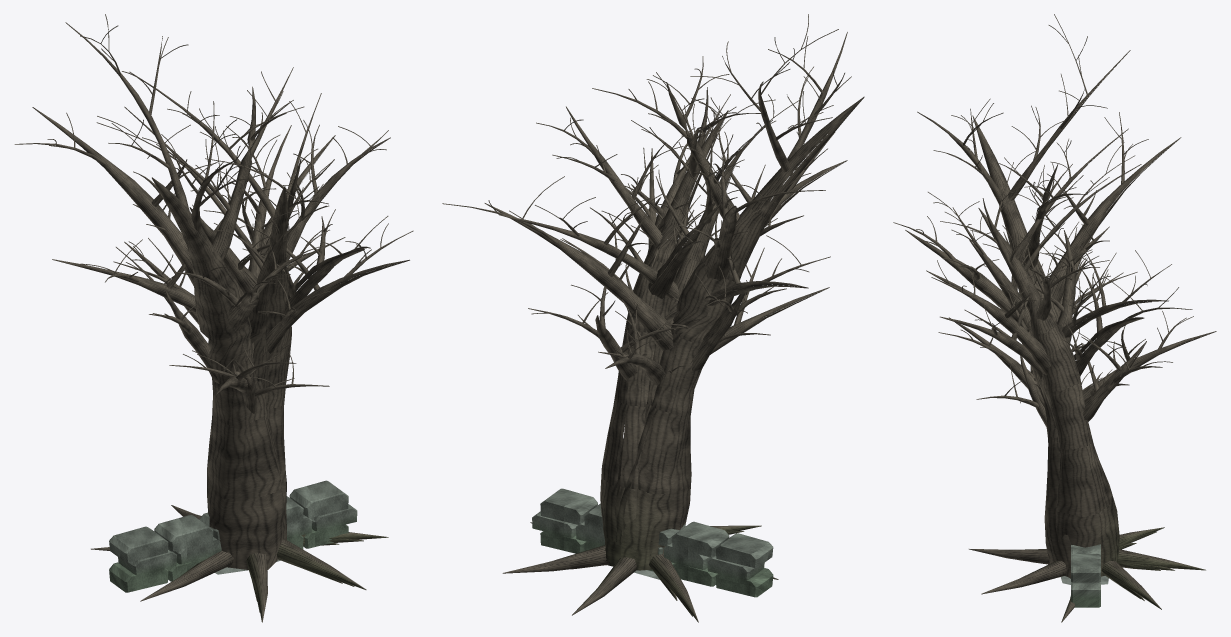
The model's file is landscape.glb.
3 renders of one model, left to right at view 1: azimuth 30°, elevation 25°; view 2: azimuth 150°, elevation 25°; view 3: azimuth 270°, elevation 25°, orthographic. The views are drawn at different scales.
Visible parts, largest first — view 1: hollow_elm, crooked_ash, old_oak, cemetery_wall; view 2: hollow_elm, crooked_ash, old_oak, cemetery_wall; view 3: crooked_ash, hollow_elm, old_oak, cemetery_wall.
Part boxes in pixels (left/top/right/bottom): hollow_elm: left=14, top=14, right=388, bottom=612; crooked_ash: left=91, top=71, right=390, bottom=622; old_oak: left=52, top=106, right=413, bottom=601; cemetery_wall: left=109, top=480, right=357, bottom=592; hollow_elm: left=442, top=14, right=864, bottom=616; crooked_ash: left=502, top=72, right=829, bottom=622; old_oak: left=498, top=94, right=830, bottom=615; cemetery_wall: left=532, top=488, right=773, bottom=597; crooked_ash: left=926, top=128, right=1172, bottom=609; hollow_elm: left=893, top=14, right=1192, bottom=622; old_oak: left=928, top=142, right=1216, bottom=600; cemetery_wall: left=1071, top=544, right=1100, bottom=607.
Bounding box in the file's own units: 7.32 × 11.66 × 7.04.
2 materials, 2 textured.
